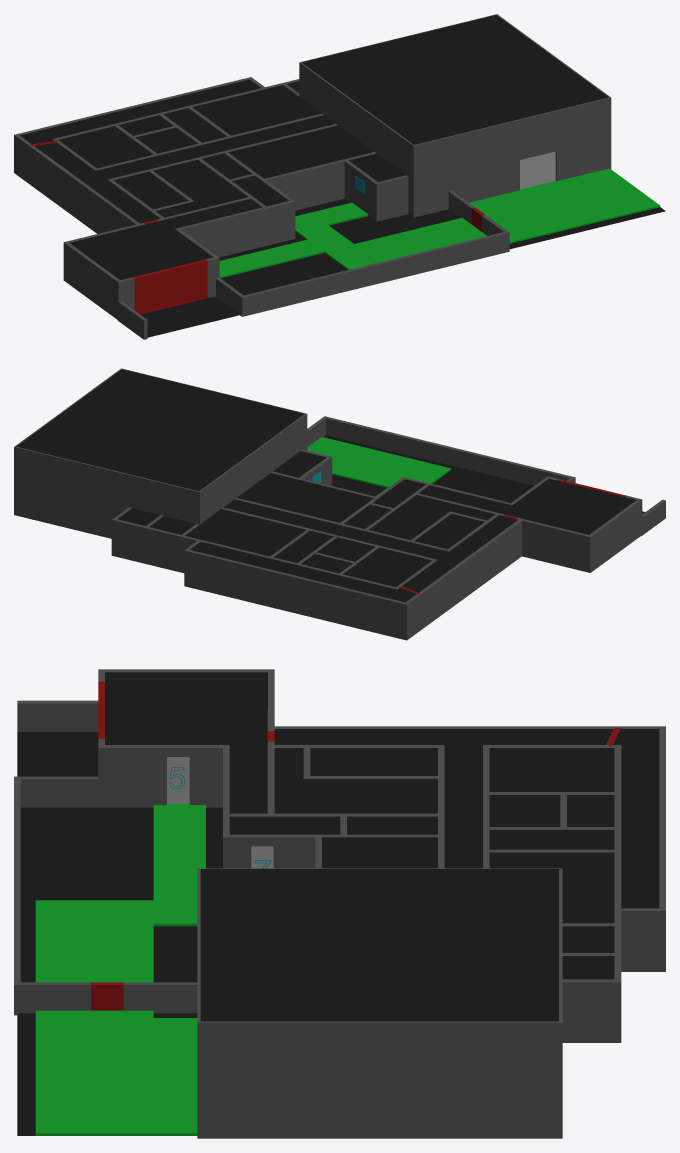
3 renders of one model, top to bottom at view 1: azimuth 30°, elevation 25°; view 2: azimuth 150°, elevation 25°; view 3: azimuth 270°, elevation 25°, orthographic. The views are drawn at different scales.
Visible parts, largest first — view 1: roof, walls, grass, floor, fence, red_walls, doors; view 2: roof, walls, fence, grass, floor; view 3: roof, walls, grass, floor, fence, doors, red_walls.
Boxes of the visible parts, x1,y1,x2,y2 form: roof: (20,15,608,279); walls: (14,14,611,320); grass: (219,168,660,278); floor: (141,198,665,337); fence: (117,190,509,339); red_walls: (30,141,484,314); doors: (355,151,555,193); roof: (17,369,636,602); walls: (14,368,642,640); fence: (307,416,665,536); grass: (307,437,451,496); floor: (323,435,644,513); roof: (105,672,659,1021); walls: (98,669,665,1138); grass: (35,804,205,1135); floor: (17,732,222,1135); fence: (14,700,197,1015); doors: (167,757,273,868); red_walls: (91,681,620,1010).
Size of the model in its own units: 43.12 by 7.68 by 29.09.
